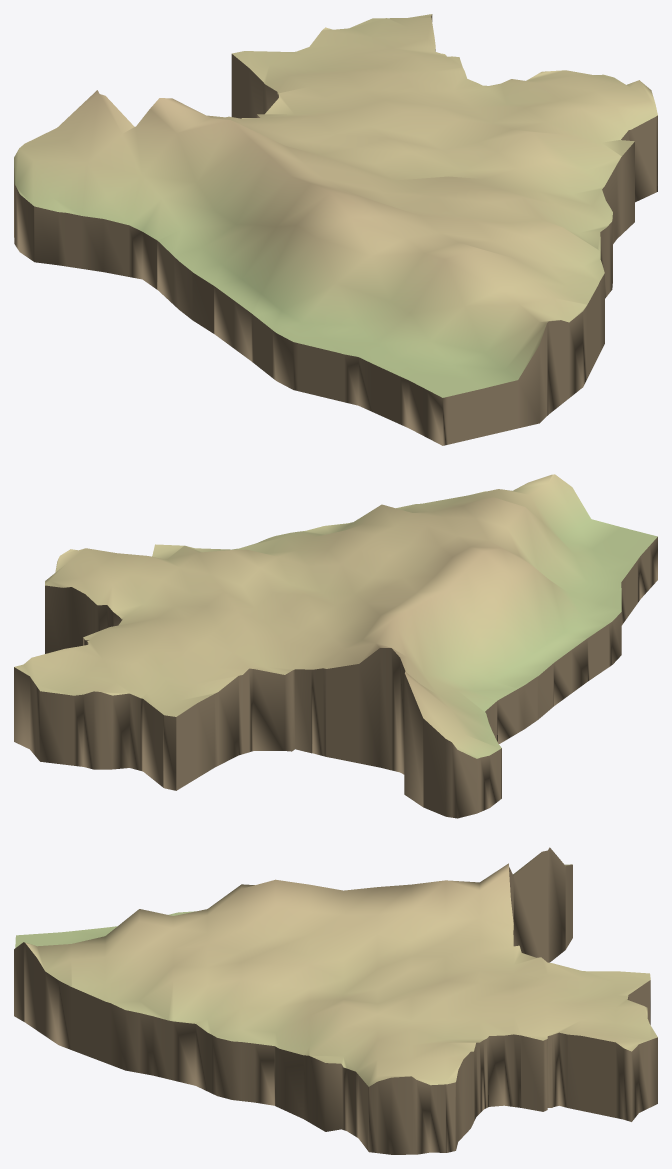
File: BDI.glb
3 renders of one model, top to bottom at view 1: azimuth 30°, elevation 25°; view 2: azimuth 150°, elevation 25°; view 3: azimuth 270°, elevation 25°, orthographic. The views are drawn at different scales.
Visible parts, largest first — view 1: BDI; view 2: BDI; view 3: BDI.
Part boxes in pixels (left/top/right/bottom): BDI: left=14, top=14, right=657, bottom=445; BDI: left=14, top=474, right=657, bottom=818; BDI: left=14, top=847, right=657, bottom=1154.
Size of the model in its own units: 1.43 by 0.338 by 1.71.
